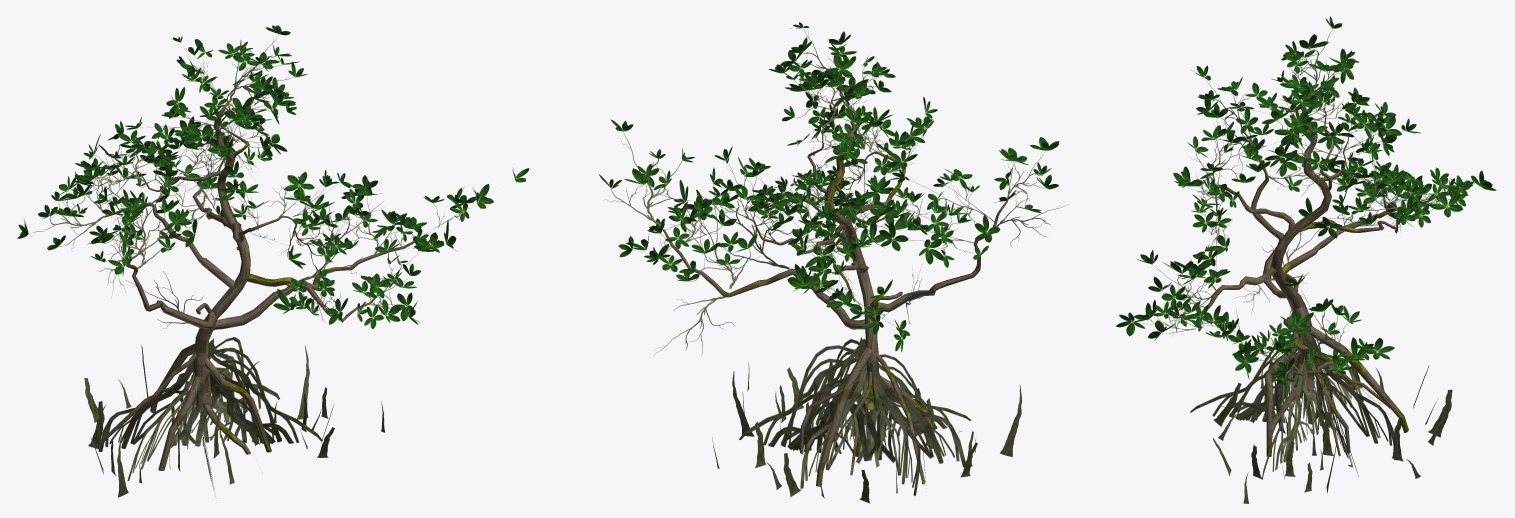
The model's file is mangrove_b.glb.
The picture shows the model from 3 angles, left to right: view 1: azimuth 30°, elevation 25°; view 2: azimuth 150°, elevation 25°; view 3: azimuth 270°, elevation 25°; orthographic projection.
Visible parts, largest first — view 1: Plane_w; view 2: Plane_w; view 3: Plane_w.
Boxes of the visible parts, x1,y1,x2,y2 form: Plane_w: [17, 25, 529, 498]; Plane_w: [599, 22, 1068, 503]; Plane_w: [1116, 16, 1496, 503].
Bounding box in the file's own units: 7 × 6.13 × 5.03.
Materials: 2 (2 with a texture image).
